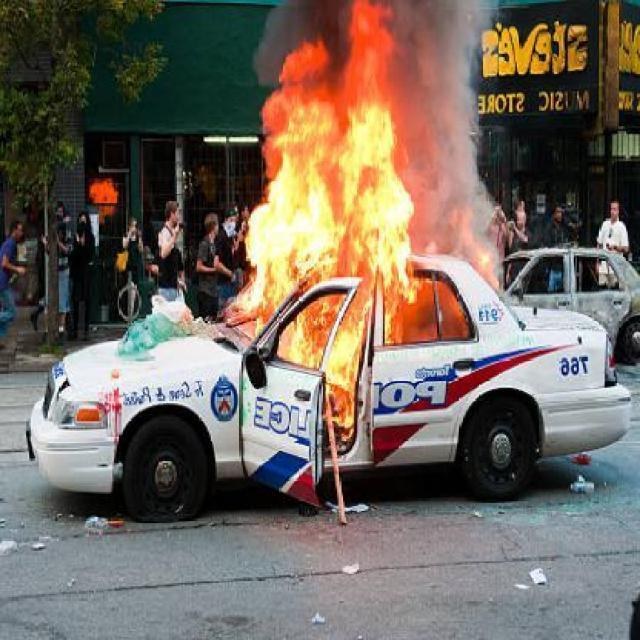Fire: (234, 0, 424, 450)
Smoke: (256, 0, 506, 288)
